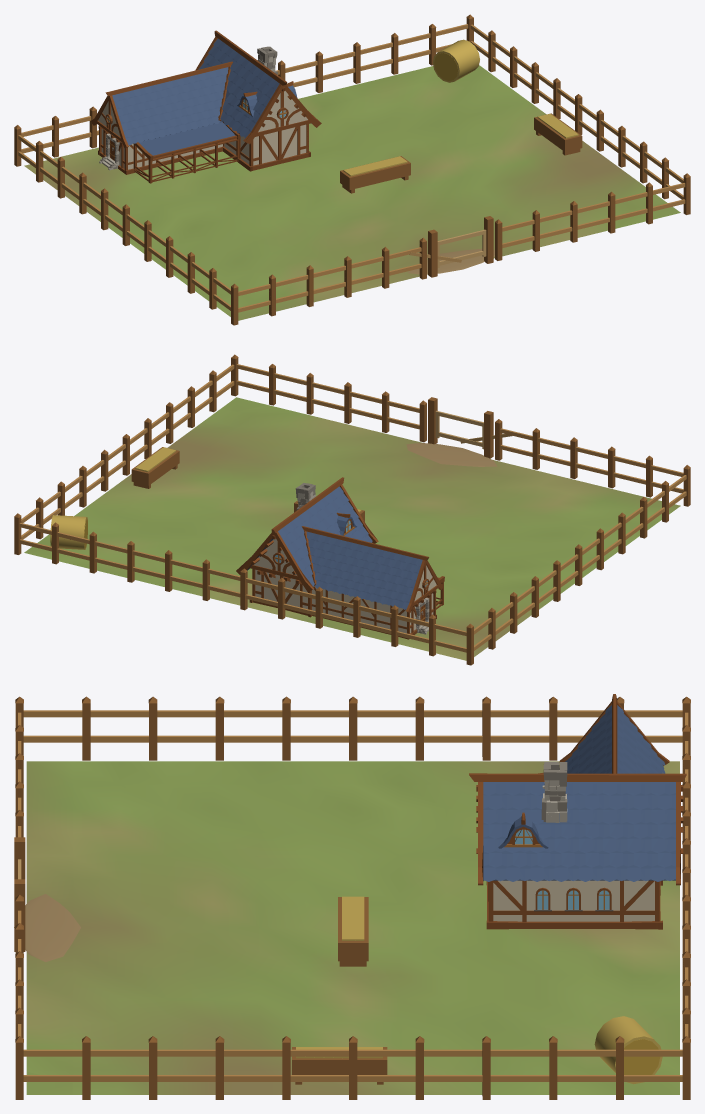
The model's file is stable-g2.glb.
The picture shows the model from 3 angles, top to bottom: view 1: azimuth 30°, elevation 25°; view 2: azimuth 150°, elevation 25°; view 3: azimuth 270°, elevation 25°; orthographic projection. The views are drawn at different scales.
Parts seen in each view (by area): view 1: home-stable-g2, home-stable-g2-far; view 2: home-stable-g2, home-stable-g2-far; view 3: home-stable-g2, home-stable-g2-far.
Boxes of the visible parts, x1,y1,x2,y2 form: home-stable-g2: [14, 14, 690, 325]; home-stable-g2-far: [52, 40, 679, 311]; home-stable-g2: [14, 354, 690, 665]; home-stable-g2-far: [51, 397, 652, 636]; home-stable-g2: [14, 694, 690, 1099]; home-stable-g2-far: [14, 703, 684, 1095].
Bounding box in the file's own units: 11.93 × 2.4 × 9.95.
